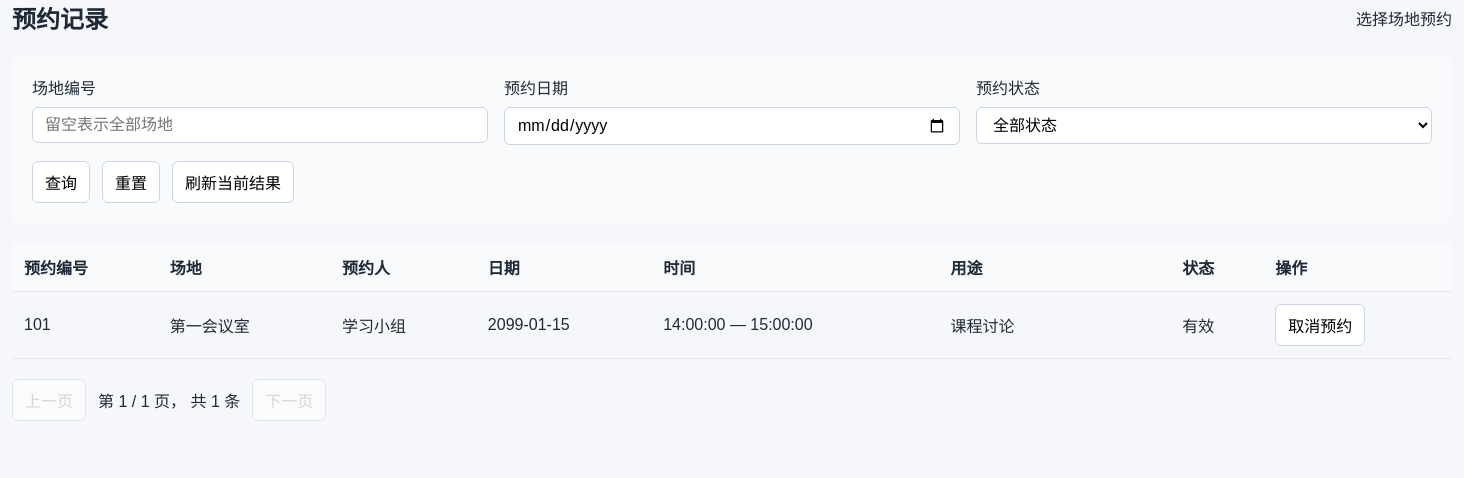
Test: ReservationListView › asks for confirmation in the page before cancelling
This screenshot has width=1464, height=478.
Click the button "取消预约": (1320, 325) 1275,304 -> 1365,346
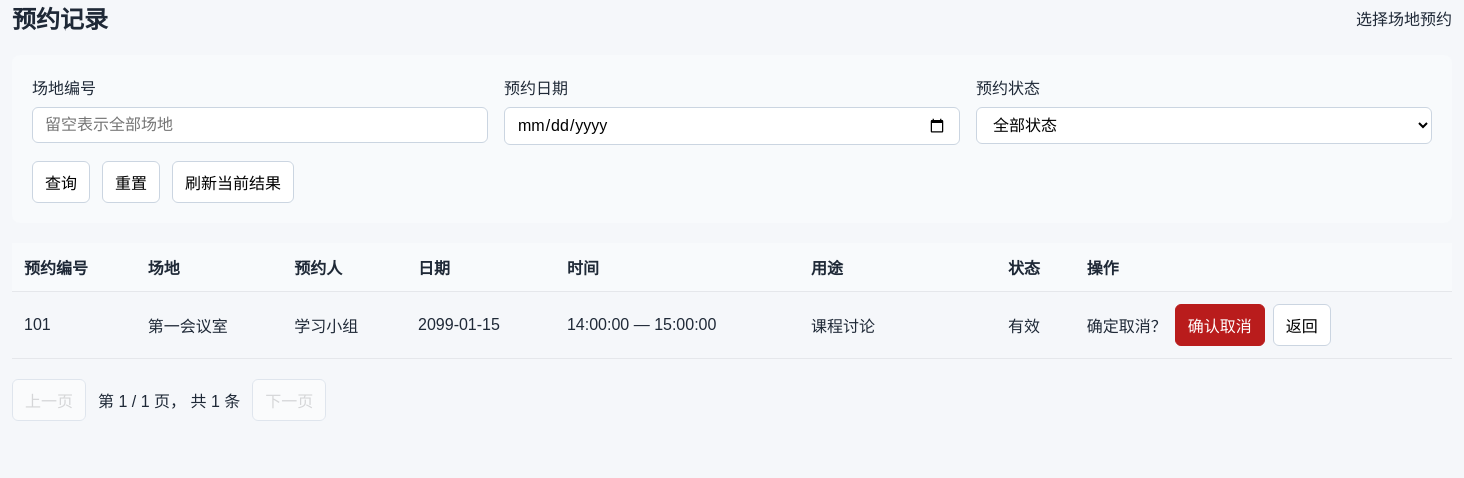
Result: the text "确定取消？" is shown at 1087,313 -> 1167,337
Click the button "确认取消": (1220, 325) 1175,304 -> 1265,346
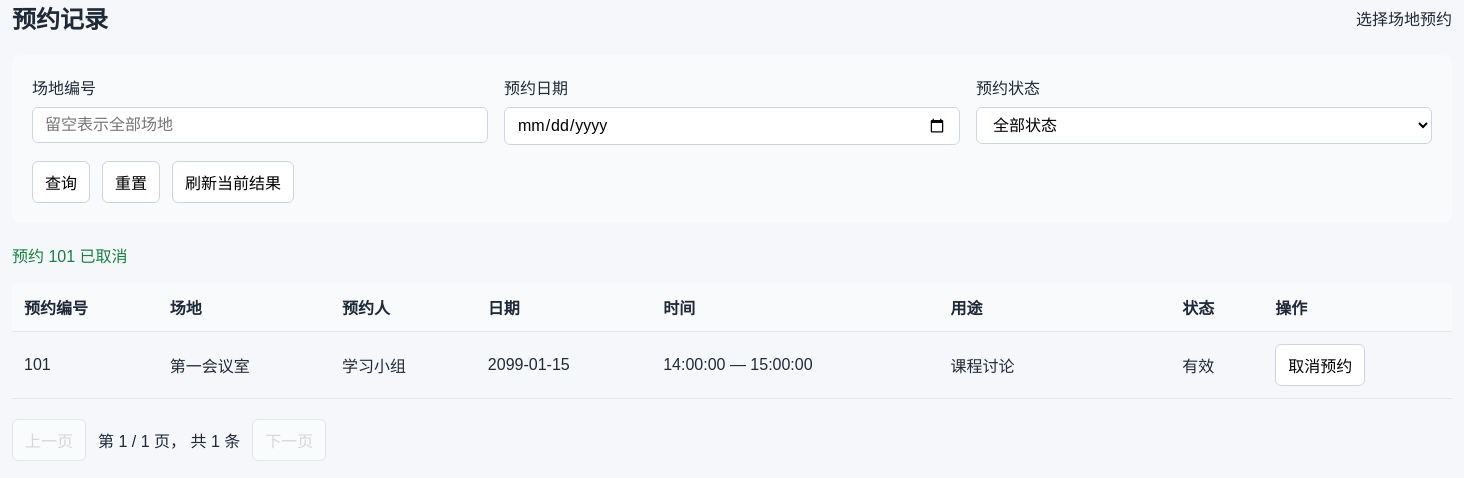
Result: the text "预约 101 已取消" is shown at 12,248 -> 128,265
